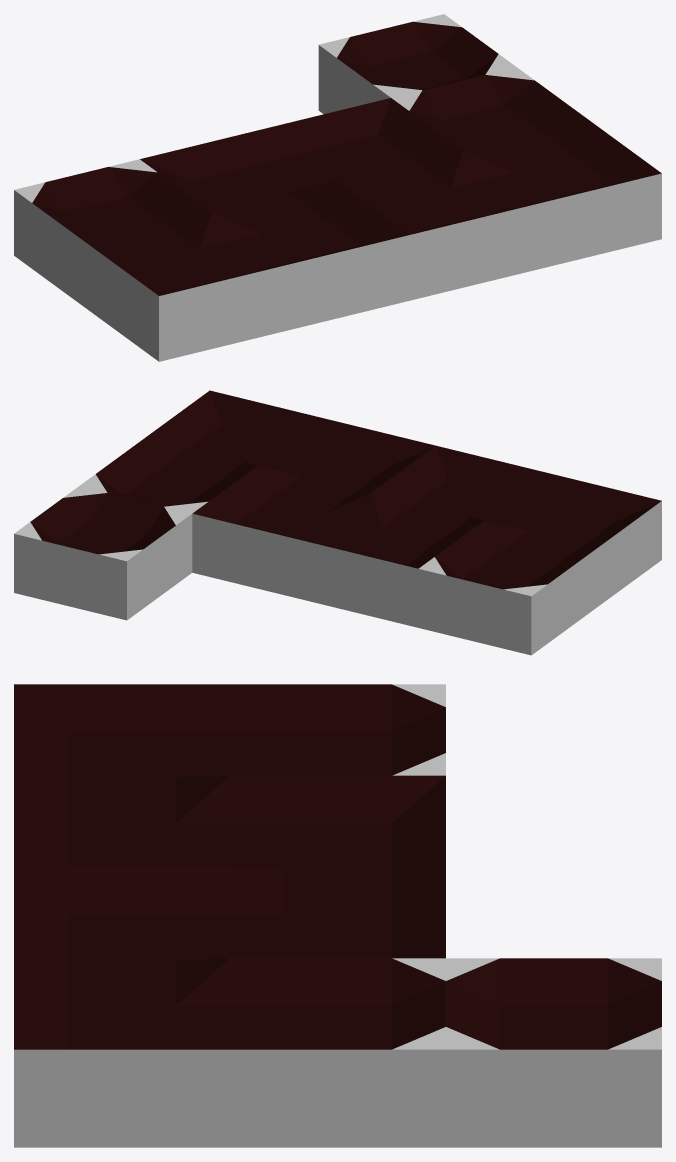
Rendered from 4s_path.obj.
3 views of the same model, one above another, from view 1: azimuth 30°, elevation 25°; view 2: azimuth 150°, elevation 25°; view 3: azimuth 270°, elevation 25° (orthographic). The views are drawn at different scales.
Parts seen in each view (by area): view 1: corner.1.2_corner.786, corner.2.2_corner.787, corner.4.2_corner.791, ending.1.3_ending.313, corner.3.2_corner.789, hole.4.4_Cube.158, corner.3.3_corner.790, ending.4.3_ending.314, corner.2.3_corner.788; view 2: hole.4.4_Cube.158, ending.1.3_ending.313, corner.3.3_corner.790, corner.2.3_corner.788, corner.1.2_corner.786, corner.2.2_corner.787, corner.4.2_corner.791, corner.3.2_corner.789, ending.4.3_ending.314; view 3: ending.4.3_ending.314, hole.4.4_Cube.158, corner.4.2_corner.791, corner.2.3_corner.788, corner.1.2_corner.786, corner.3.2_corner.789, ending.1.3_ending.313, corner.3.3_corner.790, corner.2.2_corner.787.
Boxes of the visible parts, box(x1,y1,x2,y2) form: corner.1.2_corner.786: box(86, 212, 284, 361); corner.2.2_corner.787: box(212, 182, 410, 330); corner.4.2_corner.791: box(464, 120, 661, 269); ending.1.3_ending.313: box(14, 159, 211, 308); corner.3.2_corner.789: box(339, 151, 536, 300); hole.4.4_Cube.158: box(318, 14, 516, 113); corner.3.3_corner.790: box(265, 98, 462, 190); ending.4.3_ending.314: box(391, 67, 589, 159); corner.2.3_corner.788: box(140, 128, 337, 220); hole.4.4_Cube.158: box(14, 486, 192, 620); ending.1.3_ending.313: box(418, 521, 596, 655); corner.3.3_corner.790: box(192, 466, 370, 599); corner.2.3_corner.788: box(305, 493, 482, 627); corner.1.2_corner.786: box(484, 473, 661, 607); corner.2.2_corner.787: box(371, 445, 548, 528); corner.4.2_corner.791: box(145, 390, 322, 473); corner.3.2_corner.789: box(258, 418, 435, 501); ending.4.3_ending.314: box(80, 438, 256, 513); ending.4.3_ending.314: box(230, 958, 445, 1147); hole.4.4_Cube.158: box(446, 958, 661, 1147); corner.4.2_corner.791: box(14, 958, 229, 1147); corner.2.3_corner.788: box(230, 775, 445, 891); corner.1.2_corner.786: box(14, 684, 229, 800); corner.3.2_corner.789: box(14, 867, 229, 982); ending.1.3_ending.313: box(230, 684, 445, 775); corner.3.3_corner.790: box(230, 867, 445, 958); corner.2.2_corner.787: box(14, 776, 229, 866).
Size of the model in its own units: 8 by 1 by 6.
